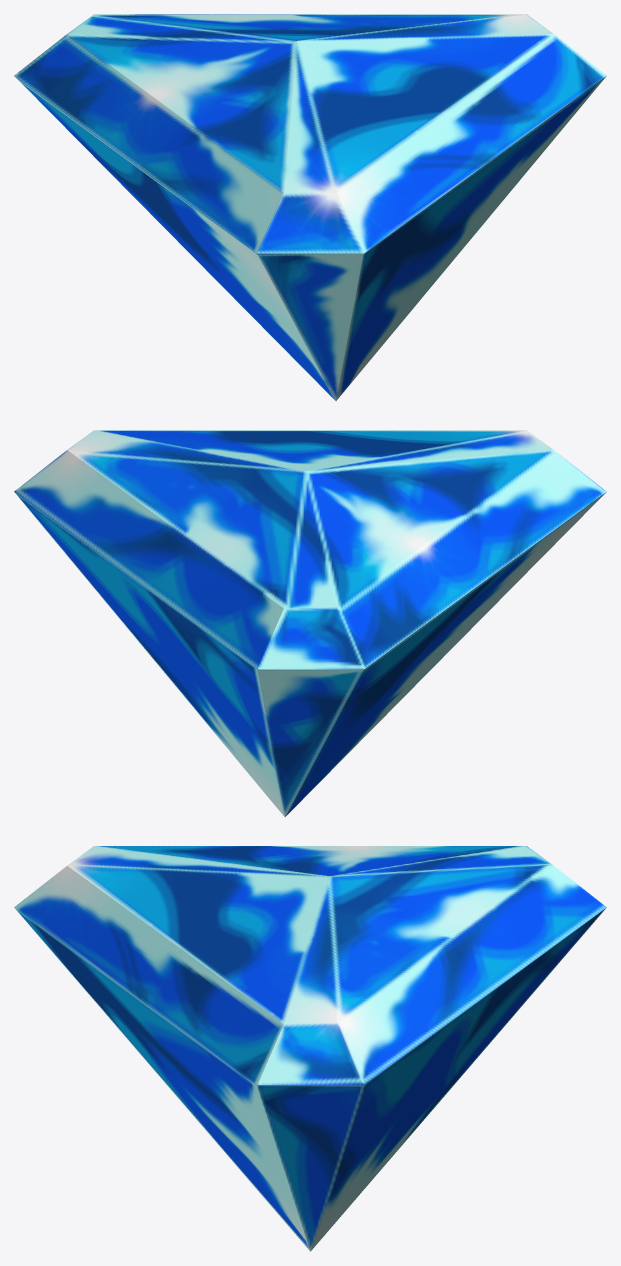
The model's file is stone_darkblue_001.fbx.
3 views of the same model, one above another, from view 1: azimuth 30°, elevation 25°; view 2: azimuth 150°, elevation 25°; view 3: azimuth 270°, elevation 25° (orthographic).
Visible parts, largest first — view 1: stone; view 2: stone; view 3: stone.
Part boxes in pixels (left/top/right/bottom): stone: left=14, top=14, right=606, bottom=400; stone: left=14, top=430, right=606, bottom=816; stone: left=14, top=846, right=606, bottom=1251.
Bounding box in the file's own units: 5.67 × 4.39 × 6.55.
